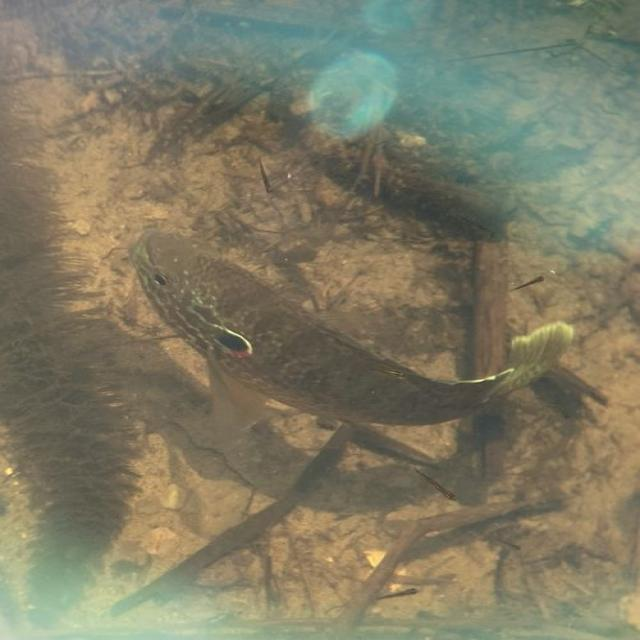Gunes Levregi: (120, 220, 580, 440)
